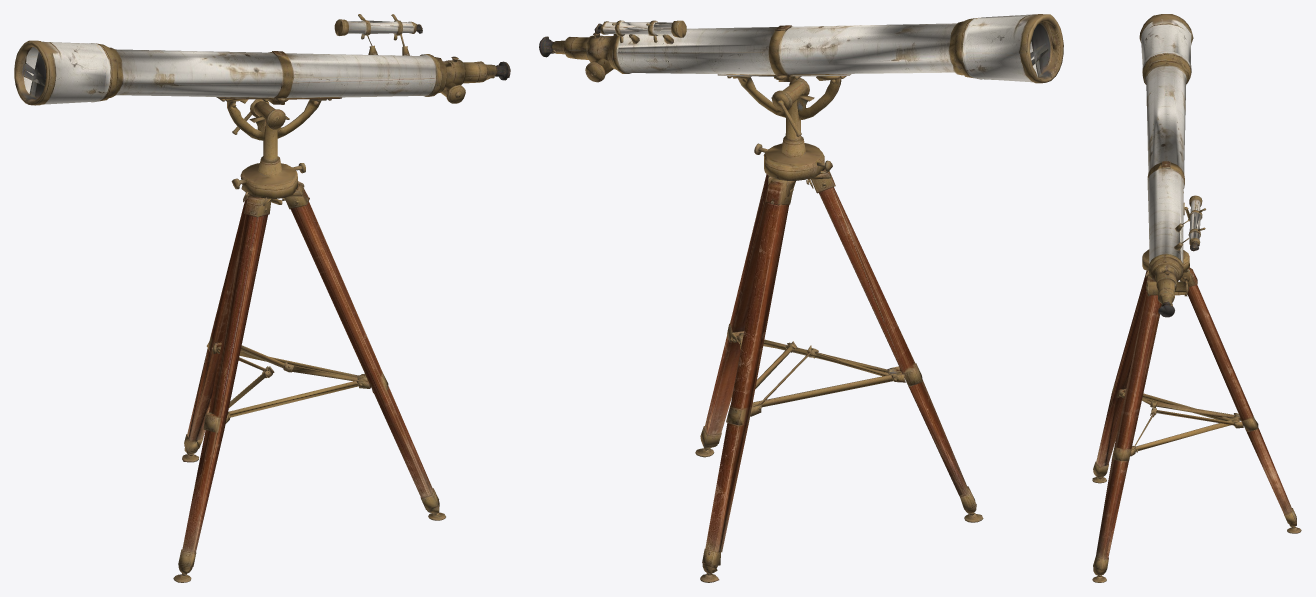
File: skyways-d-sc-telescope.glb
3 renders of one model, left to right at view 1: azimuth 30°, elevation 25°; view 2: azimuth 150°, elevation 25°; view 3: azimuth 270°, elevation 25°, orthographic. The views are drawn at different scales.
Visible parts, largest first — view 1: skyways-d-sc-telescope; view 2: skyways-d-sc-telescope; view 3: skyways-d-sc-telescope.
Boxes of the visible parts, box(x1,y1,x2,y2) form: skyways-d-sc-telescope: box(14, 14, 510, 582); skyways-d-sc-telescope: box(539, 14, 1063, 582); skyways-d-sc-telescope: box(1092, 14, 1301, 582).
Size of the model in its own units: 1.61 by 1.7 by 0.7576.
Materials: 1 (1 with a texture image).
